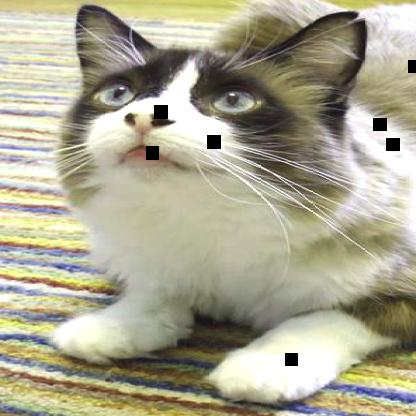cat: (48, 0, 414, 405)
